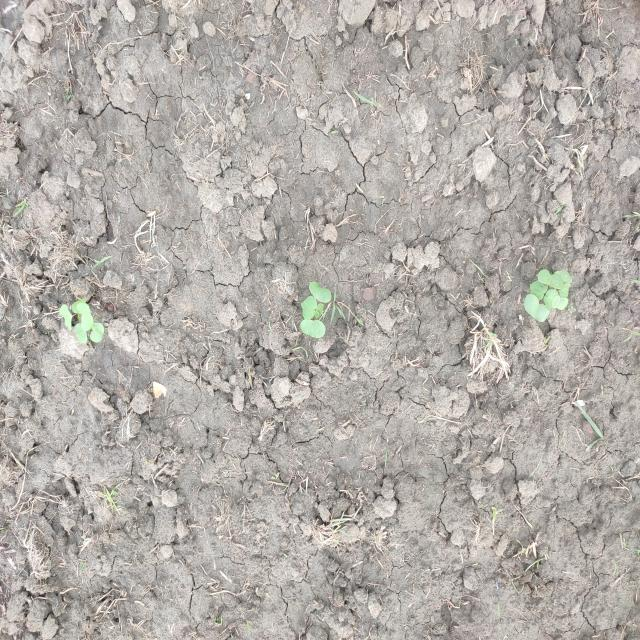seedling: (524, 294, 550, 323), (538, 269, 563, 289), (309, 281, 331, 303), (77, 303, 94, 331), (300, 320, 326, 338), (300, 296, 317, 320), (59, 304, 73, 331), (530, 280, 547, 300), (543, 289, 558, 310), (90, 323, 105, 342), (74, 323, 87, 344), (71, 298, 87, 313), (552, 296, 568, 310), (560, 270, 573, 283), (559, 283, 571, 297), (315, 303, 324, 319)
